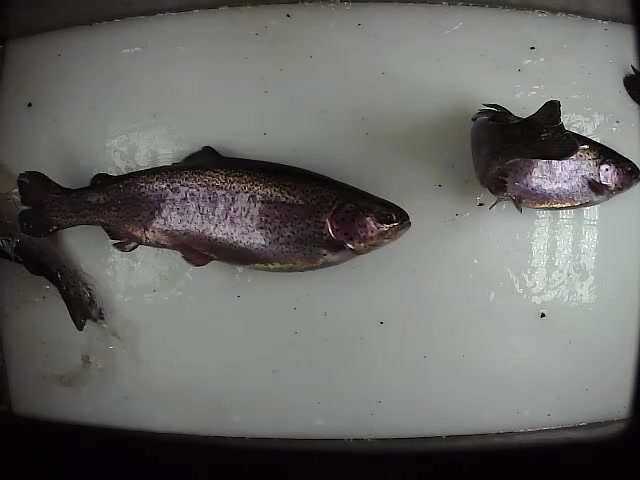fish: (15, 142, 414, 275), (467, 97, 640, 218)
